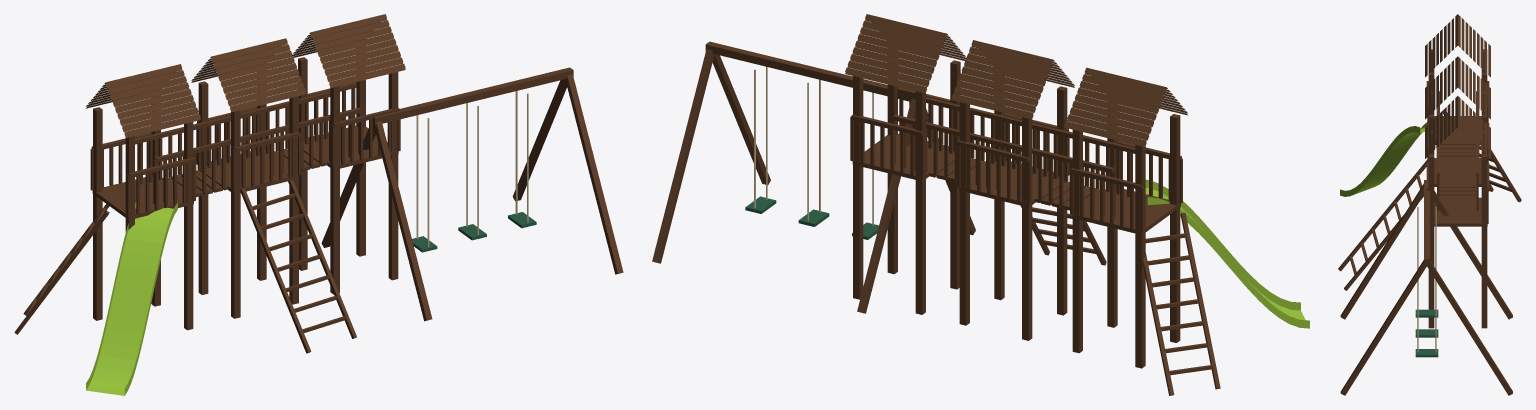
The picture shows the model from 3 angles, left to right: view 1: azimuth 30°, elevation 25°; view 2: azimuth 150°, elevation 25°; view 3: azimuth 270°, elevation 25°; orthographic projection. The views are drawn at different scales.
Visible parts, largest first — view 1: SW-E102; view 2: SW-E102; view 3: SW-E102.
Part boxes in pixels (left/top/right/bottom): SW-E102: left=14, top=14, right=623, bottom=395; SW-E102: left=652, top=14, right=1309, bottom=395; SW-E102: left=1338, top=14, right=1521, bottom=395.
Size of the model in its own units: 8.75 by 4 by 3.25.
